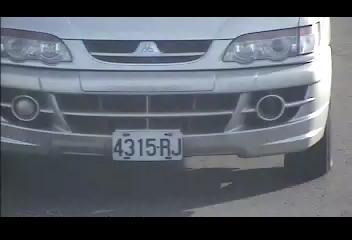plate: (110, 128, 184, 161)
